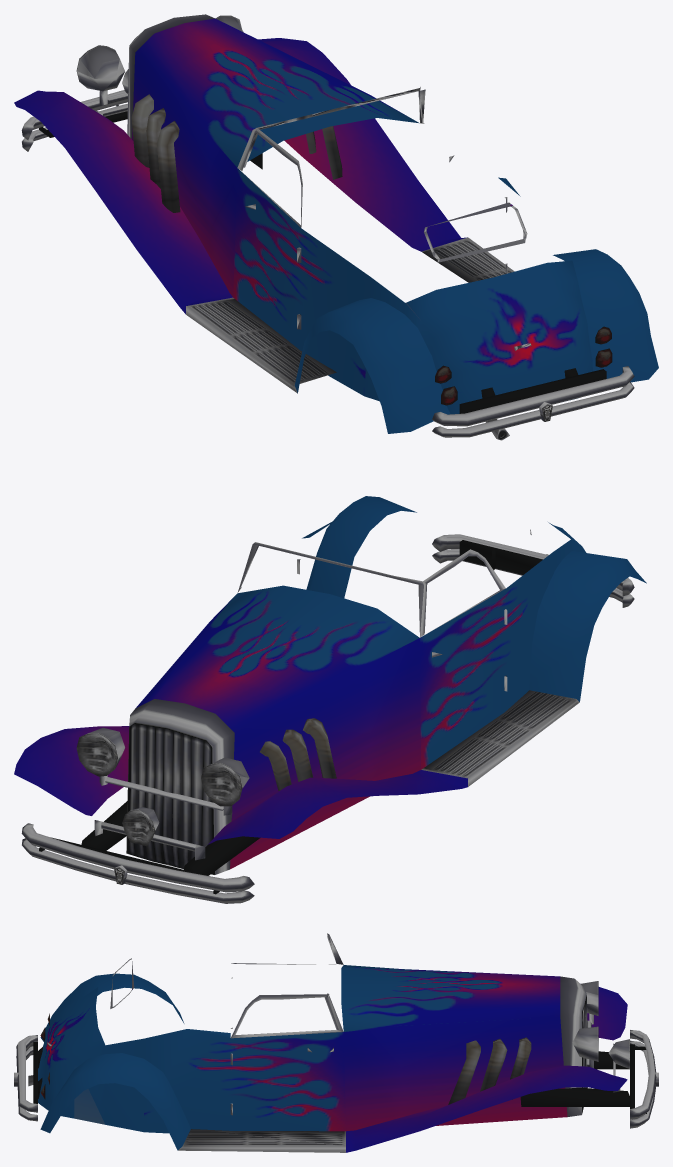
The model's file is car-COMP_Car27.glb.
3 renders of one model, top to bottom at view 1: azimuth 30°, elevation 25°; view 2: azimuth 150°, elevation 25°; view 3: azimuth 270°, elevation 25°, orthographic. The views are drawn at different scales.
Visible parts, largest first — view 1: COMP_Car27; view 2: COMP_Car27; view 3: COMP_Car27.
Part boxes in pixels (bbox=[...]): COMP_Car27: bbox=[14, 14, 658, 440]; COMP_Car27: bbox=[14, 496, 646, 903]; COMP_Car27: bbox=[14, 933, 658, 1152].
Size of the model in its own units: 1.87 by 1.17 by 4.91.
3 materials, 3 textured.
